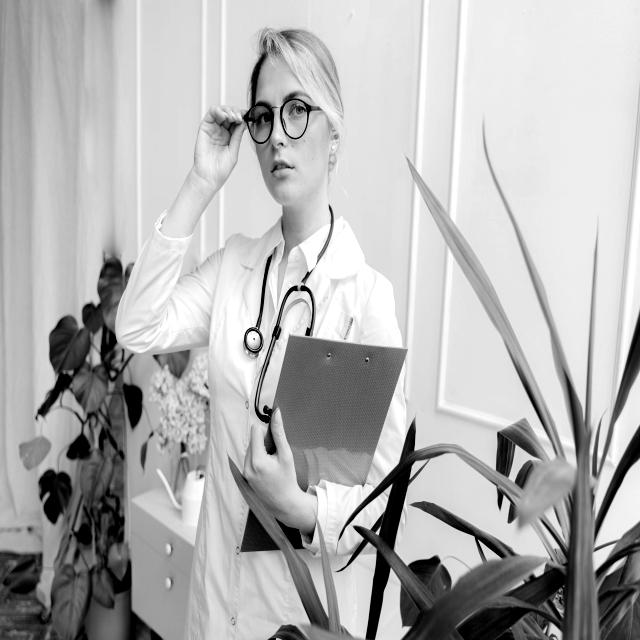No-Vest: (193, 261, 388, 640)
